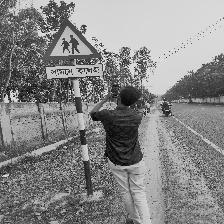College-in-front: (42, 20, 110, 86)
